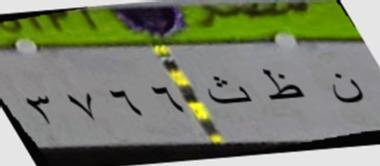3: (24, 90, 55, 136)
6: (146, 80, 187, 118), (110, 83, 142, 127)
7: (64, 84, 98, 124)
Thaa: (258, 65, 306, 111)
noon: (326, 70, 366, 112)
thaa: (205, 73, 252, 112)
